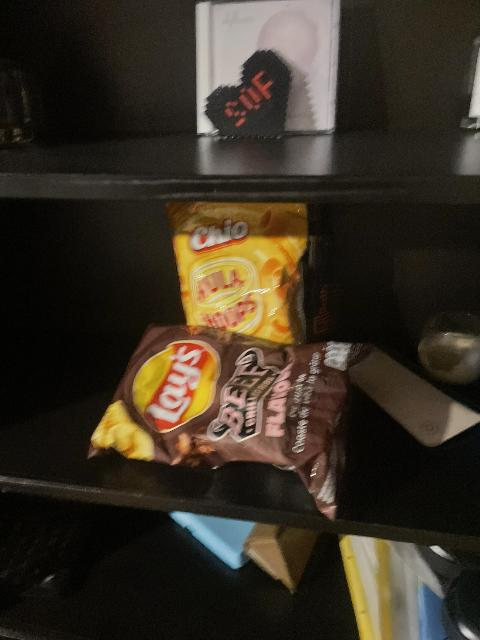Chio Hula Hoops Cheese 70g: (165, 202, 313, 343)
Lays Beef Grilled Ribs 125g: (91, 324, 363, 513)
